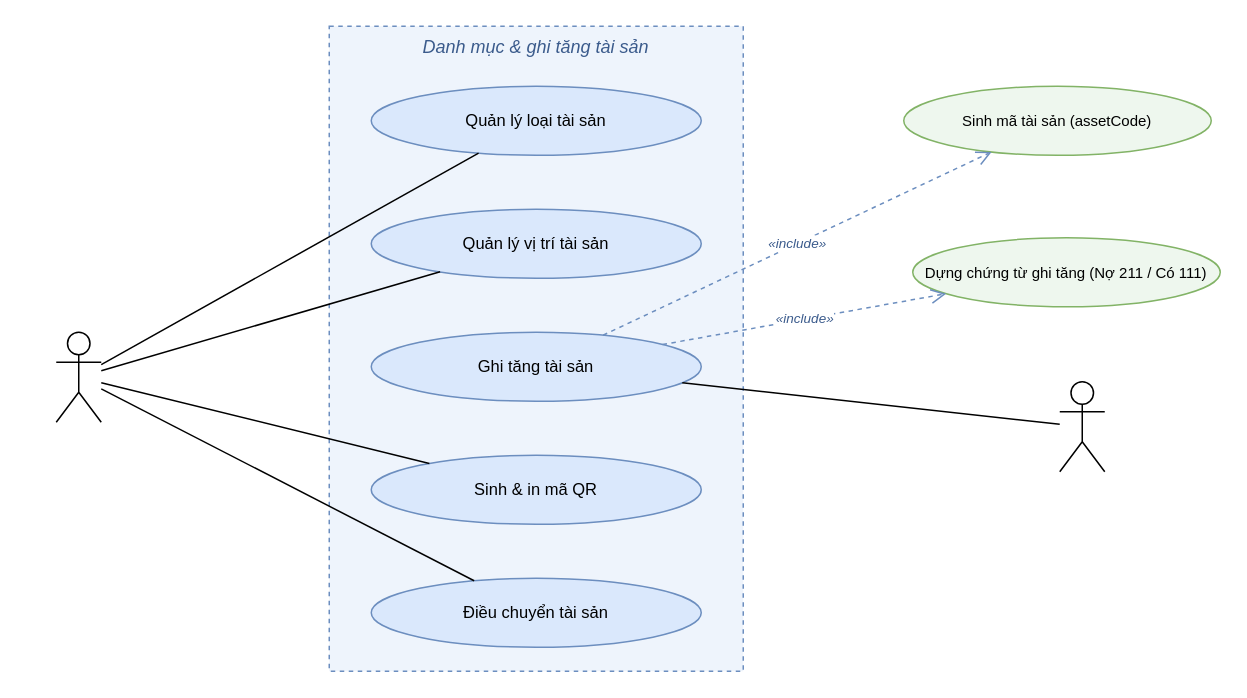
This 1247x698 diagram has some shape labels left out. The shapes that lost their labels are listed below. From the top down, each one's centre as x and y in pixels, then its label:
point (78, 376): Kỹ sư trưởng
point (1081, 426): Kế toán
